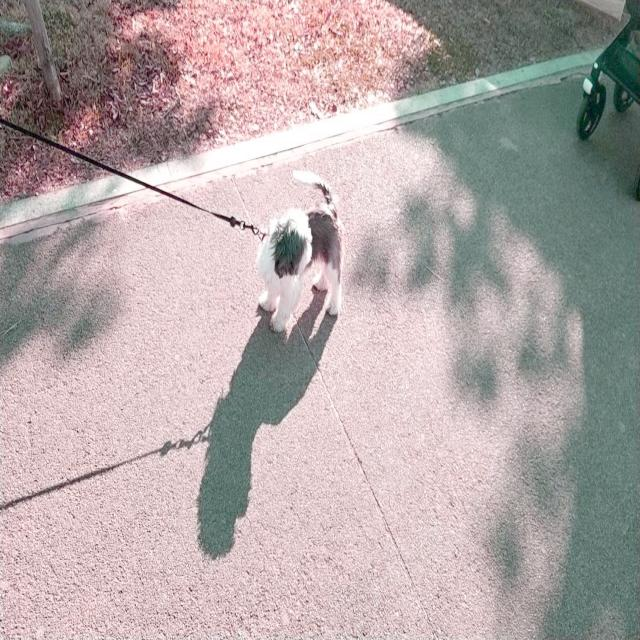Dog: (256, 168, 345, 334)
